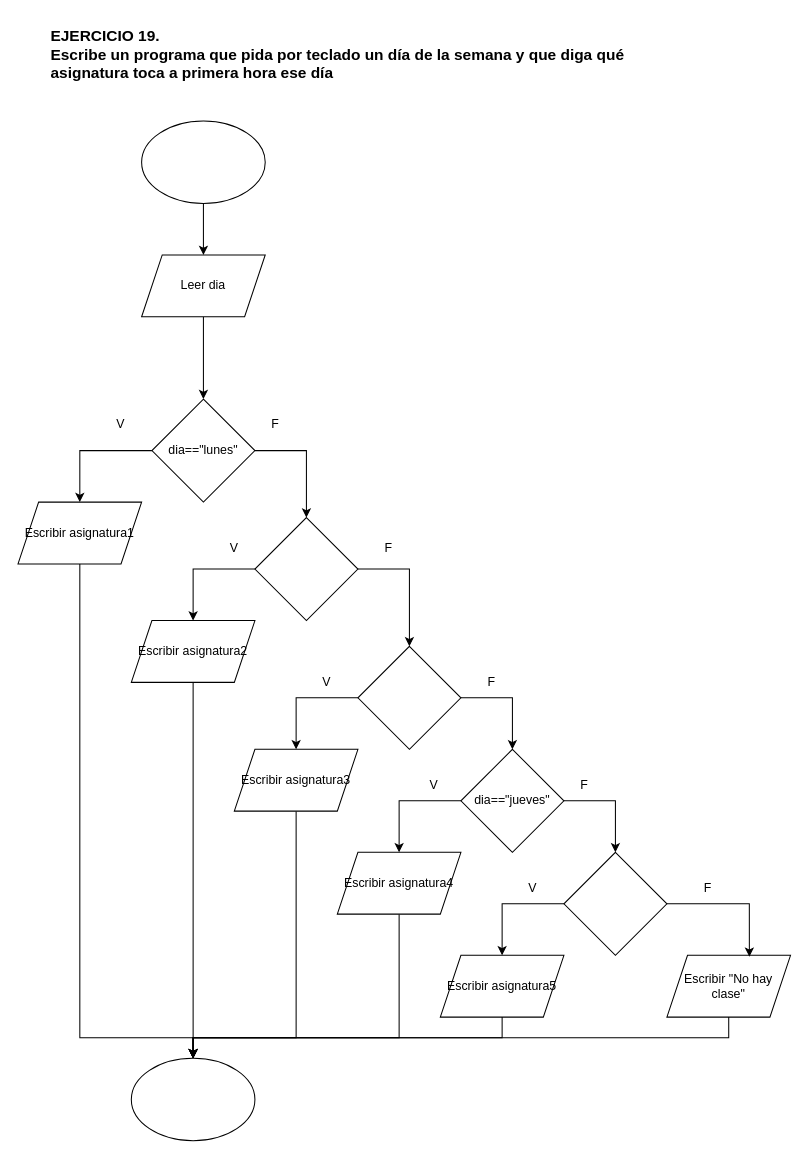
Image size: 809x1159. Some labels were removed from this diagram. The centre of each missing label's shape, as x and y in pixels:
dia=="martes": point 306,569
dia=="miercoles": point 409,697
dia=="viernes": point 615,903
FIN: point 192,1099
INICIO: point 203,161
